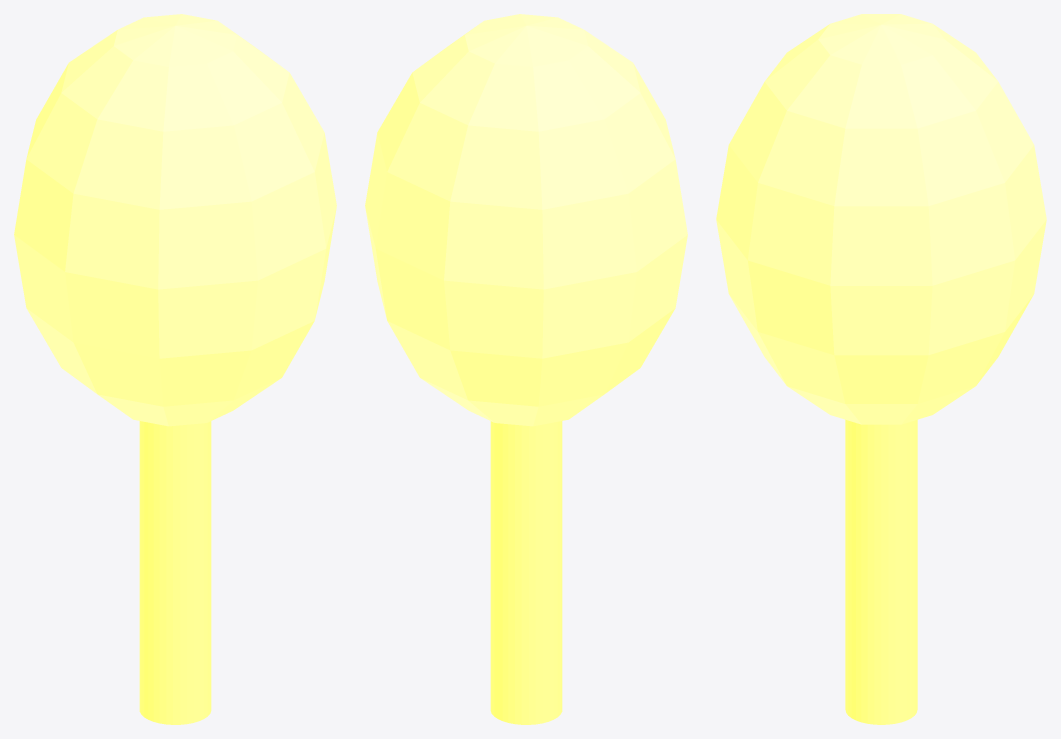
The model's file is bala_pellet_mesh.glb.
3 views of the same model, side by side, from view 1: azimuth 30°, elevation 25°; view 2: azimuth 150°, elevation 25°; view 3: azimuth 270°, elevation 25° (orthographic).
Visible parts, largest first — view 1: BalaPellet; view 2: BalaPellet; view 3: BalaPellet.
Boxes of the visible parts, x1,y1,x2,y2 form: BalaPellet: (14,14,336,724); BalaPellet: (365,14,687,724); BalaPellet: (716,14,1046,724).
Bounding box in the file's own units: 0.1046 × 0.2515 × 0.11.
